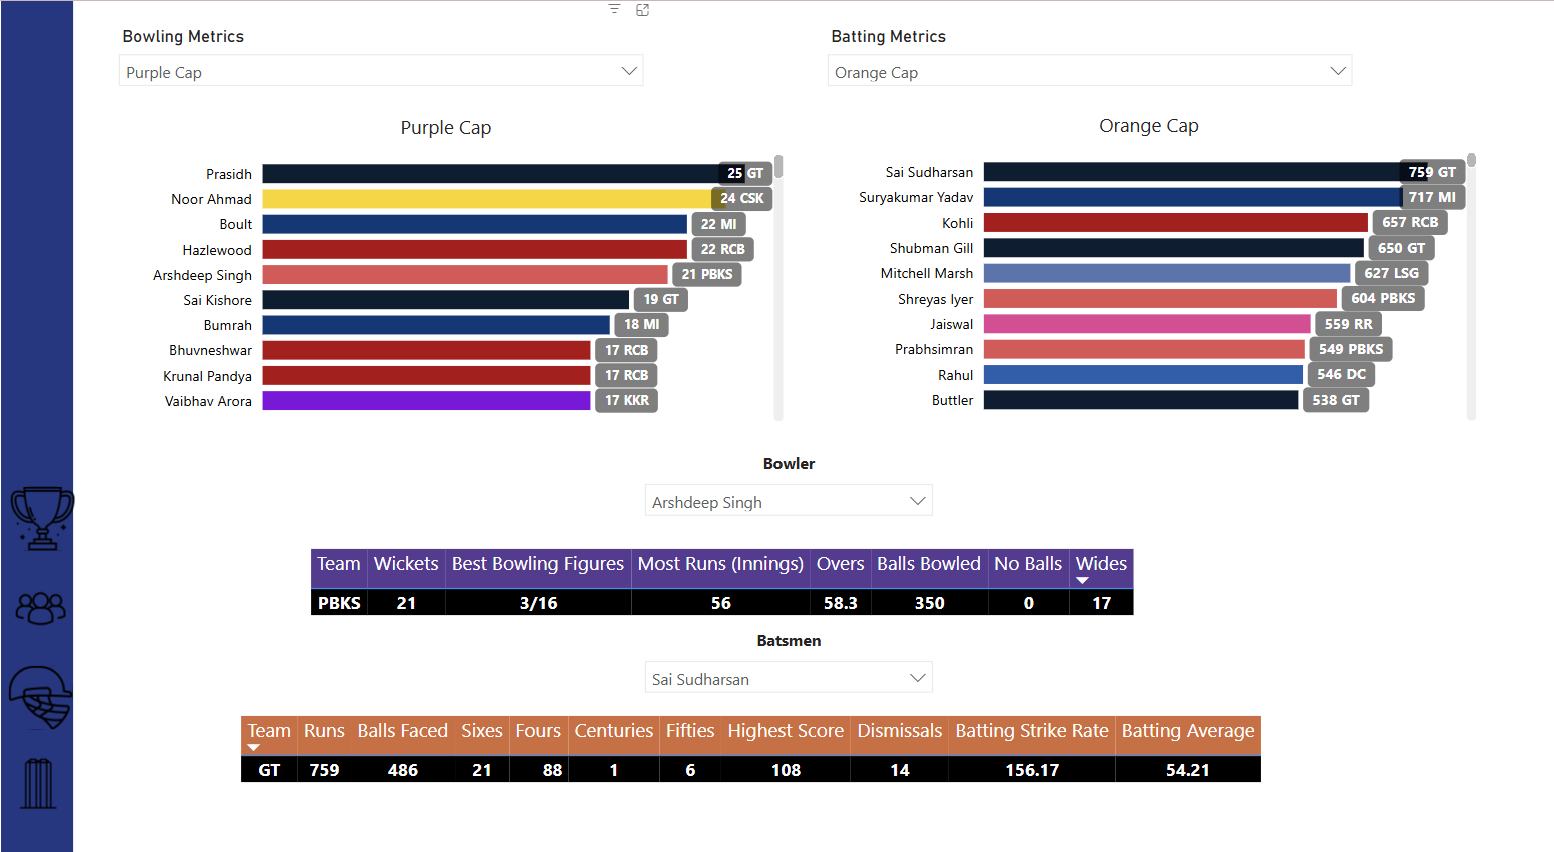

The page's visual inventory and layout, read from the dashboard file:
{"tool":"powerbi","page":{"name":"Player Performance Metrics","canvas":[1280,720],"ordinal":2},"visuals":[{"type":"shape","box":[0,0,61.1,720],"z":0},{"type":"actionButton","box":[2.6,482.5,85.7,62],"z":1000},{"type":"actionButton","box":[2.6,557.6,85.7,62],"z":2000},{"type":"actionButton","box":[0,631.4,85.7,62],"z":3000},{"type":"actionButton","box":[4,406,85.7,62],"z":4000},{"type":"barChart","fields":{"Y":["PlayerMeasuresTable.Orange Cap"],"Category":["Striker_Stats.striker"]},"box":[689,94.3,563.6,266.3],"z":5000},{"type":"barChart","fields":{"Y":["PlayerMeasuresTable.Purple Cap"],"Category":["Bowler_Stats.bowler"]},"box":[86,95.5,580.3,265.1],"z":6000},{"type":"slicer","title":"Bowling Metrics","fields":{"Values":["Parameter.Parameter"]},"box":[89.9,17.2,464.4,77.6],"z":7000},{"type":"slicer","fields":{"Values":["Batting Metrics.Batting Metrics"]},"box":[688.7,17.2,464.4,77.6],"z":8000},{"type":"slicer","title":"Bowler","fields":{"Values":["Bowler_Stats.bowler"]},"box":[534.9,380.9,262.7,76.4],"z":9000},{"type":"tableEx","title":"Stats","fields":{"Values":["Bowler_Stats.Team","Bowler_Stats.Total_Wickets","Bowler_Stats.Best Bowling Figures","Bowler_Stats.Most_Runs_Conceded_Innings","Bowler_Stats.Total Overs","Bowler_Stats.Total_Balls_Bowled","Bowler_Stats.Total_NoBalls","Bowler_Stats.Total_Wides"]},"box":[256.7,457.3,714,72.8],"z":10000},{"type":"slicer","title":"Batsmen","fields":{"Values":["Striker_Stats.striker"]},"box":[534.9,530.1,262.7,69.3],"z":11000},{"type":"tableEx","fields":{"Values":["Striker_Stats.Team","Striker_Stats.Total_Runs","Striker_Stats.Total_Balls_Faced","Striker_Stats.Total_6s","Striker_Stats.Total_4s","Striker_Stats.Most_Centuries","Striker_Stats.Most_Fifties","Striker_Stats.Highest_Score","Striker_Stats.Dismissals","Striker_Stats.Batting Strike Rate","Striker_Stats.Batting Average"]},"box":[197,599,885.9,78.3],"z":12000}]}

Visuals, with their boxes on the page's 1280x720 design canvas (x1, y1, x2, y2). These are canvas units, not pixel positions in the 1554x852 screenshot, which may show the page scaled, cropped or inside an application window:
shape: [0,0,61,720]
actionButton: [3,482,88,544]
actionButton: [3,558,88,620]
actionButton: [0,631,86,693]
actionButton: [4,406,90,468]
barChart - PlayerMeasuresTable.Orange Cap x Striker_Stats.striker: [689,94,1253,361]
barChart - PlayerMeasuresTable.Purple Cap x Bowler_Stats.bowler: [86,96,666,361]
"Bowling Metrics" slicer: [90,17,554,95]
slicer - Batting Metrics.Batting Metrics: [689,17,1153,95]
"Bowler" slicer: [535,381,798,457]
"Stats" tableEx: [257,457,971,530]
"Batsmen" slicer: [535,530,798,599]
tableEx - Striker_Stats.Team x Striker_Stats.Total_Runs: [197,599,1083,677]
